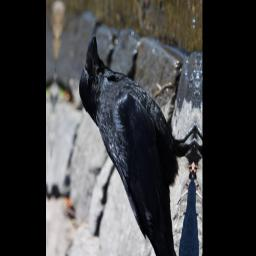Crow: (70, 30, 200, 256)
